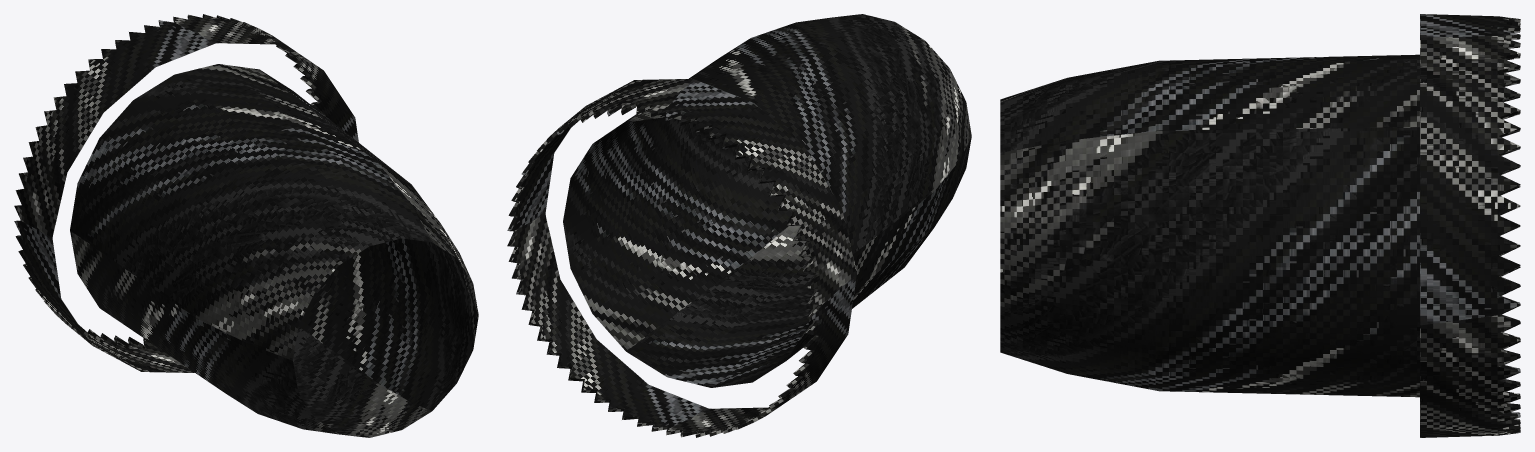
3 renders of one model, left to right at view 1: azimuth 30°, elevation 25°; view 2: azimuth 150°, elevation 25°; view 3: azimuth 270°, elevation 25°, orthographic. The views are drawn at different scales.
Parts seen in each view (by area): view 1: engine_f35_ext_3_0; view 2: engine_f35_ext_3_0; view 3: engine_f35_ext_3_0.
Boxes of the visible parts, x1,y1,x2,y2 form: engine_f35_ext_3_0: (14,14,478,437); engine_f35_ext_3_0: (507,14,971,437); engine_f35_ext_3_0: (1000,14,1520,437).
Size of the model in its own units: 135 by 135 by 166.
1 material, 1 textured.
